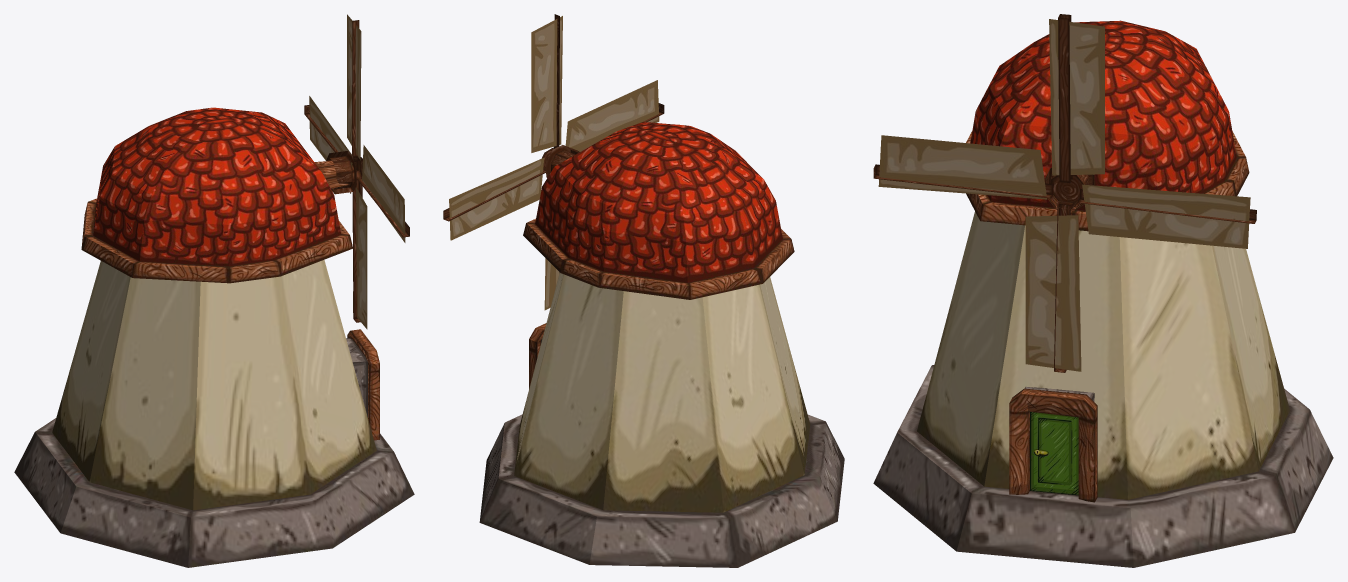
The model's file is little_village_windmill.glb.
The picture shows the model from 3 angles, left to right: view 1: azimuth 30°, elevation 25°; view 2: azimuth 150°, elevation 25°; view 3: azimuth 270°, elevation 25°; orthographic projection. The views are drawn at different scales.
Visible parts, largest first — view 1: Windmill_bottom_Muehle_2_0; view 2: Windmill_bottom_Muehle_2_0; view 3: Windmill_bottom_Muehle_2_0.
Boxes of the visible parts, bbox=[...] form: Windmill_bottom_Muehle_2_0: bbox=[14, 14, 414, 567]; Windmill_bottom_Muehle_2_0: bbox=[443, 14, 844, 567]; Windmill_bottom_Muehle_2_0: bbox=[873, 14, 1333, 567].
Size of the model in its own units: 7.49 by 9.48 by 7.49.
3 materials, 3 textured.
